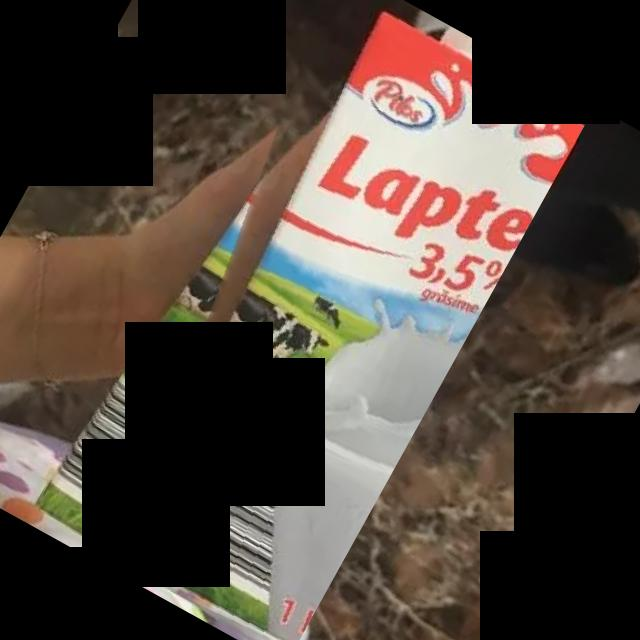milk: (31, 0, 595, 640)
